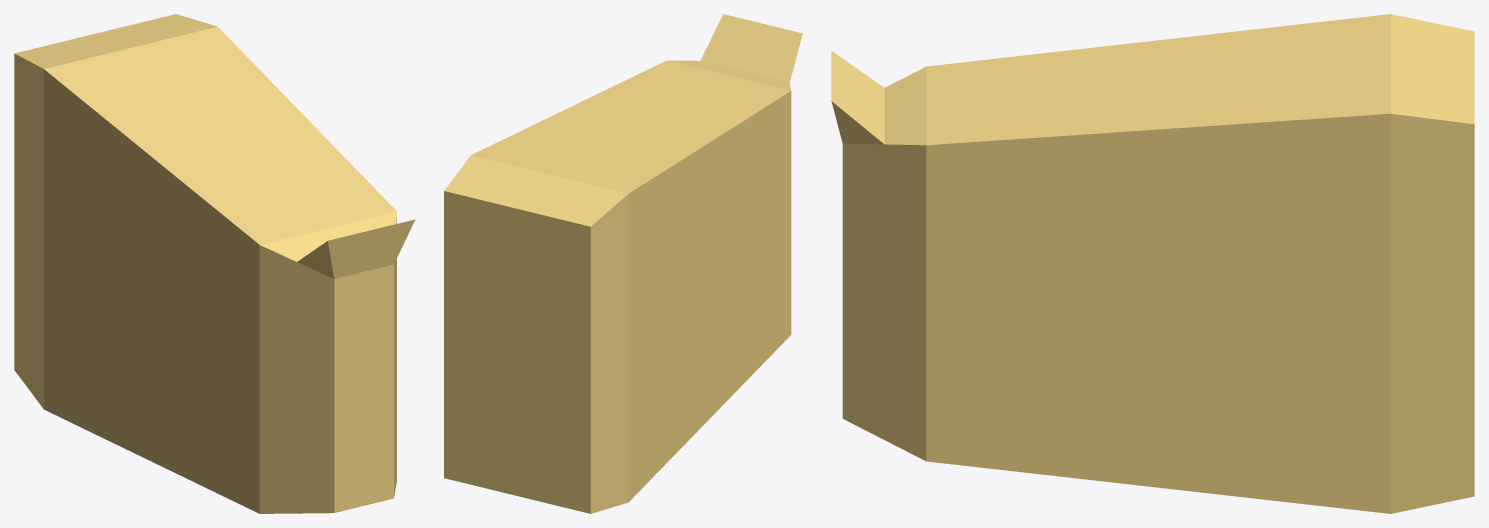
Rendered from gratedMozzarellaBag.obj.
3 views of the same model, side by side, from view 1: azimuth 30°, elevation 25°; view 2: azimuth 150°, elevation 25°; view 3: azimuth 270°, elevation 25° (orthographic). The views are drawn at different scales.
Parts seen in each view (by area): view 1: bag.000_bag.001; view 2: bag.000_bag.001; view 3: bag.000_bag.001.
Boxes of the visible parts, <box> form: bag.000_bag.001: <box>14,14,415,513</box>; bag.000_bag.001: <box>444,14,802,513</box>; bag.000_bag.001: <box>831,14,1474,513</box>.
Bounding box in the file's own units: 0.055 × 0.103 × 0.1499.
